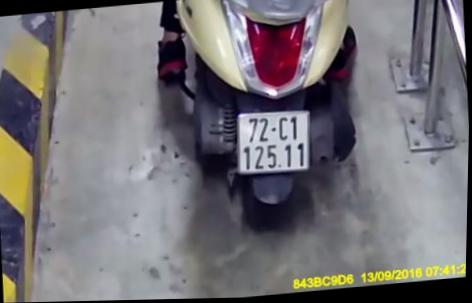LP: (234, 107, 315, 178)
